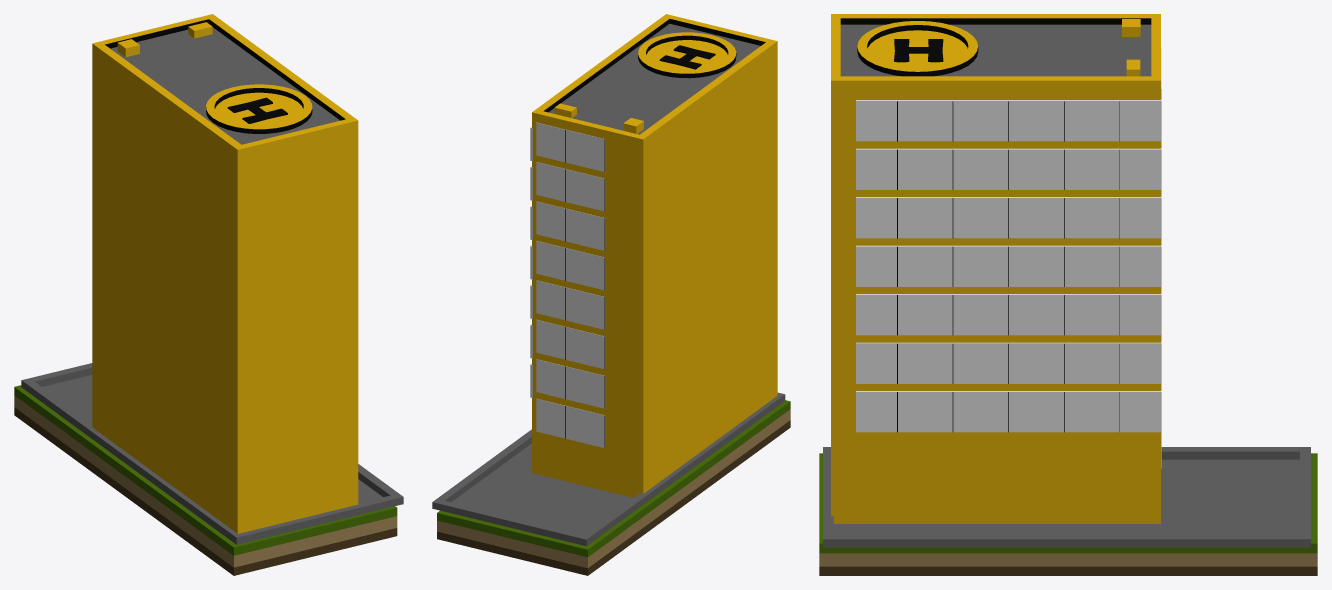
Rendered from Company.fbx.
The picture shows the model from 3 angles, left to right: view 1: azimuth 30°, elevation 25°; view 2: azimuth 150°, elevation 25°; view 3: azimuth 270°, elevation 25°; orthographic projection. The views are drawn at different scales.
Parts seen in each view (by area): view 1: Plane.078, factory ground.004, Plane.077, Circle.035, Text.029; view 2: Plane.078, Cube.144, Plane.077, factory ground.004, Circle.035, Cube.143, Text.029; view 3: Cube.143, Plane.078, Plane.077, factory ground.004, Circle.035, Text.029.
Boxes of the visible parts, x1,y1,x2,y2 form: Plane.078: (92, 14, 358, 533); factory ground.004: (14, 385, 397, 575); Plane.077: (21, 363, 403, 544); Circle.035: (206, 84, 312, 133); Text.029: (227, 97, 287, 123); Plane.078: (532, 14, 777, 497); Cube.144: (536, 122, 604, 448); Plane.077: (432, 392, 785, 546); factory ground.004: (437, 400, 790, 575); Circle.035: (638, 32, 736, 78); Cube.143: (530, 127, 532, 397); Text.029: (659, 45, 715, 69); Cube.143: (856, 99, 1161, 432); Plane.078: (831, 14, 1160, 523); Plane.077: (823, 447, 1310, 547); factory ground.004: (819, 453, 1317, 575); Circle.035: (857, 21, 978, 76); Text.029: (894, 39, 943, 62).
Size of the model in its own units: 126 by 298 by 280.
